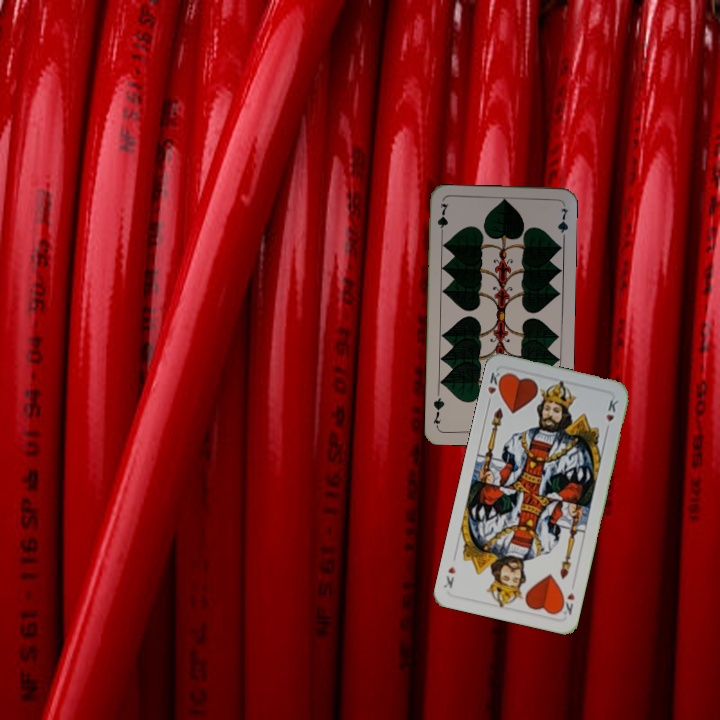G7: (434, 199, 450, 240)
HK: (483, 367, 506, 407), (556, 589, 577, 617)
